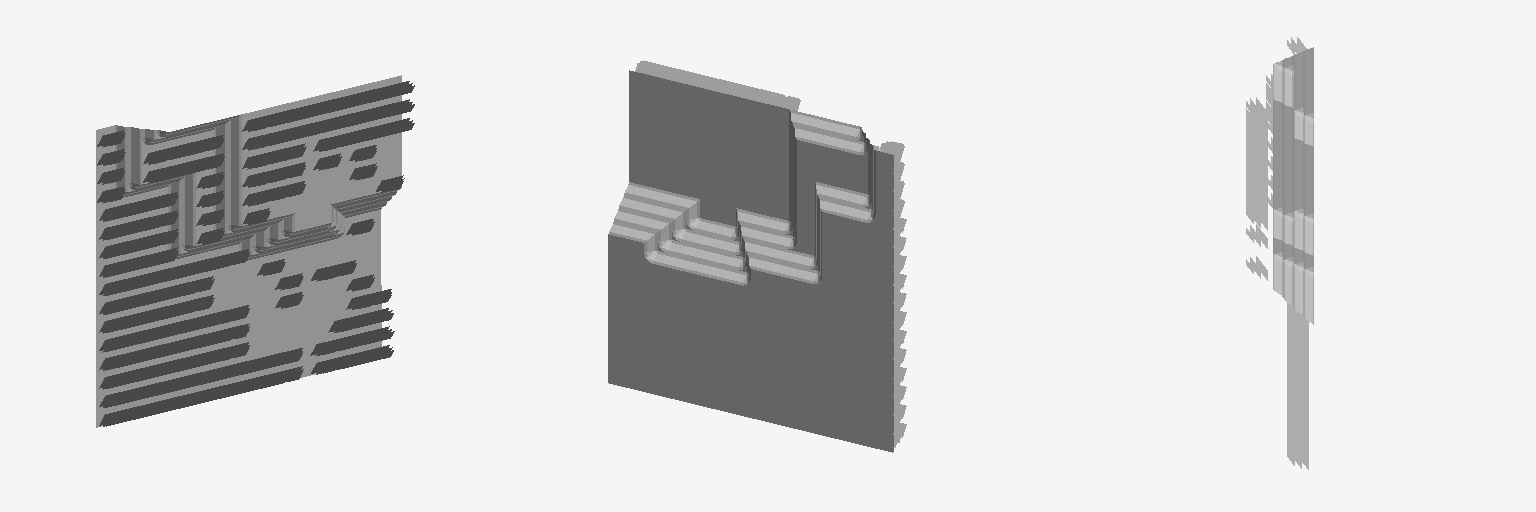
The model's file is Plat_full_08_01.obj.
The picture shows the model from 3 angles: view 1: azimuth 30°, elevation 25°; view 2: azimuth 150°, elevation 25°; view 3: azimuth 270°, elevation 25°; orthographic projection.
Parts seen in each view (by area): view 1: map; view 2: map; view 3: map.
Boxes of the visible parts, x1=… form: map: x1=96, y1=75, x2=414, y2=427; map: x1=608, y1=60, x2=906, y2=452; map: x1=1246, y1=37, x2=1313, y2=469.
Bounding box in the file's own units: 32.5 × 32.12 × 6.64.